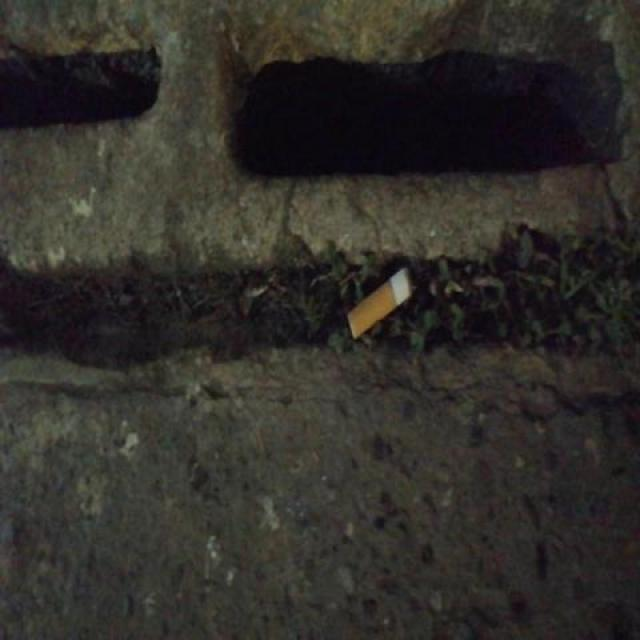non-organic waste: (343, 263, 417, 345)
